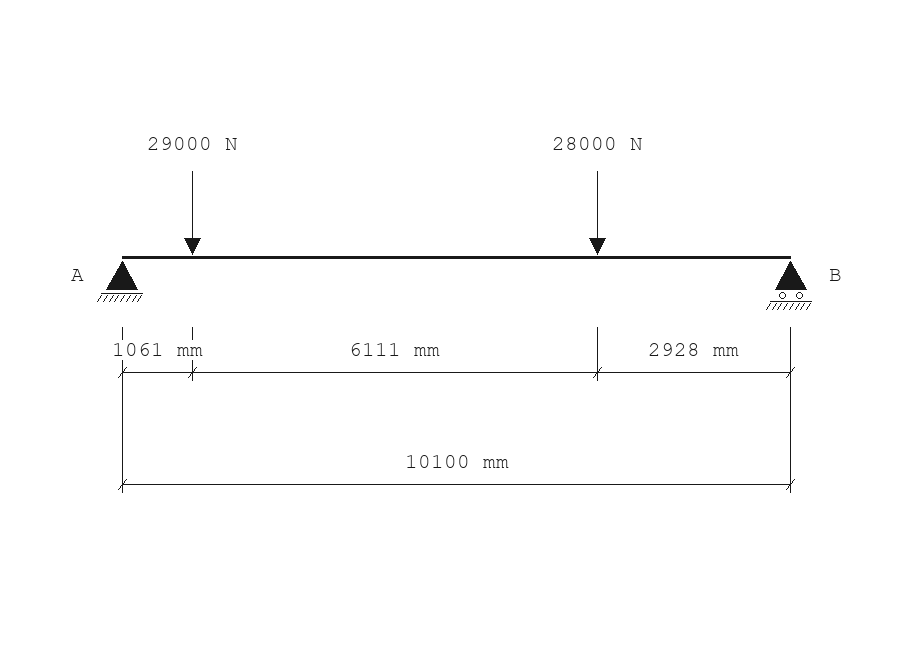pin_support: (97, 261, 143, 302)
point_load: (184, 171, 201, 255), (589, 171, 606, 255)
roller_support: (766, 261, 812, 310)
